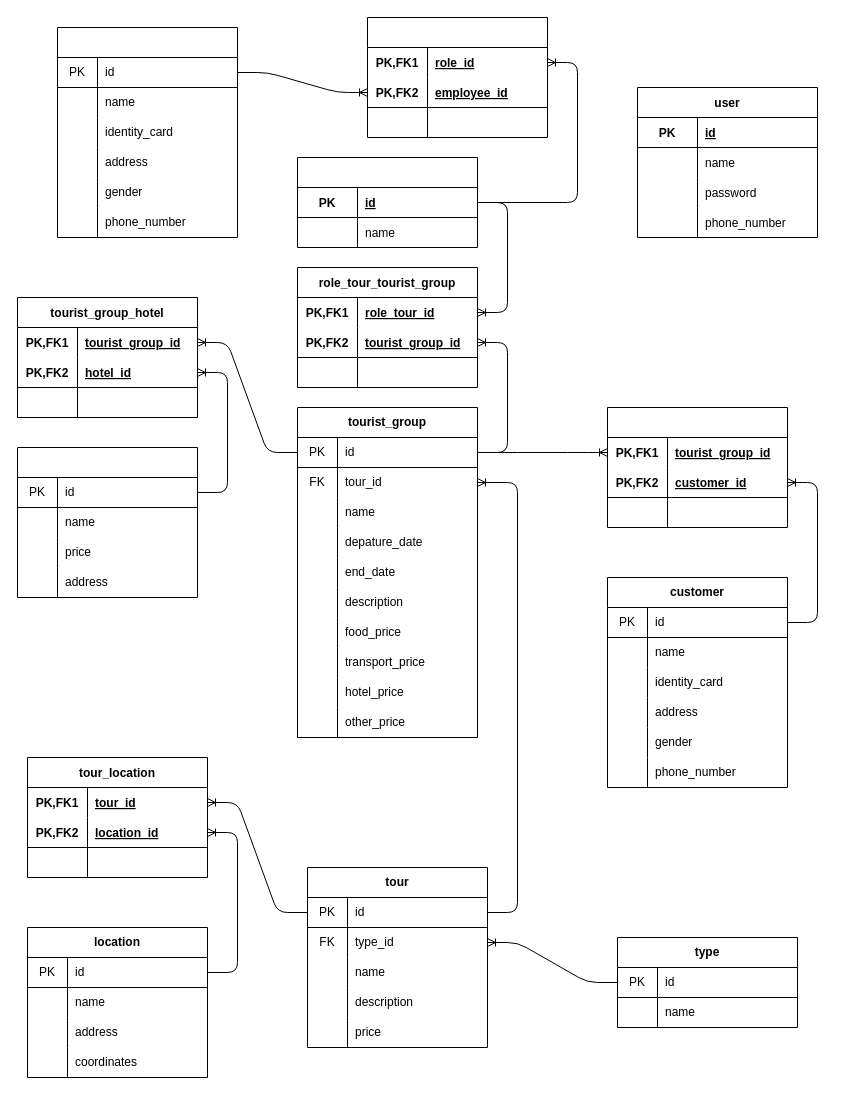
Some shapes in this 843 by 1095 pixel diagram are drawn without their labels. The box of each missing label's shape, as (x1, y1, x2, y2) in pixels:
employee: (56, 26, 238, 238)
hotel: (16, 446, 198, 598)
role_employee: (366, 16, 548, 138)
role_tour: (296, 156, 478, 248)
tourist_group_customer: (606, 406, 788, 528)
